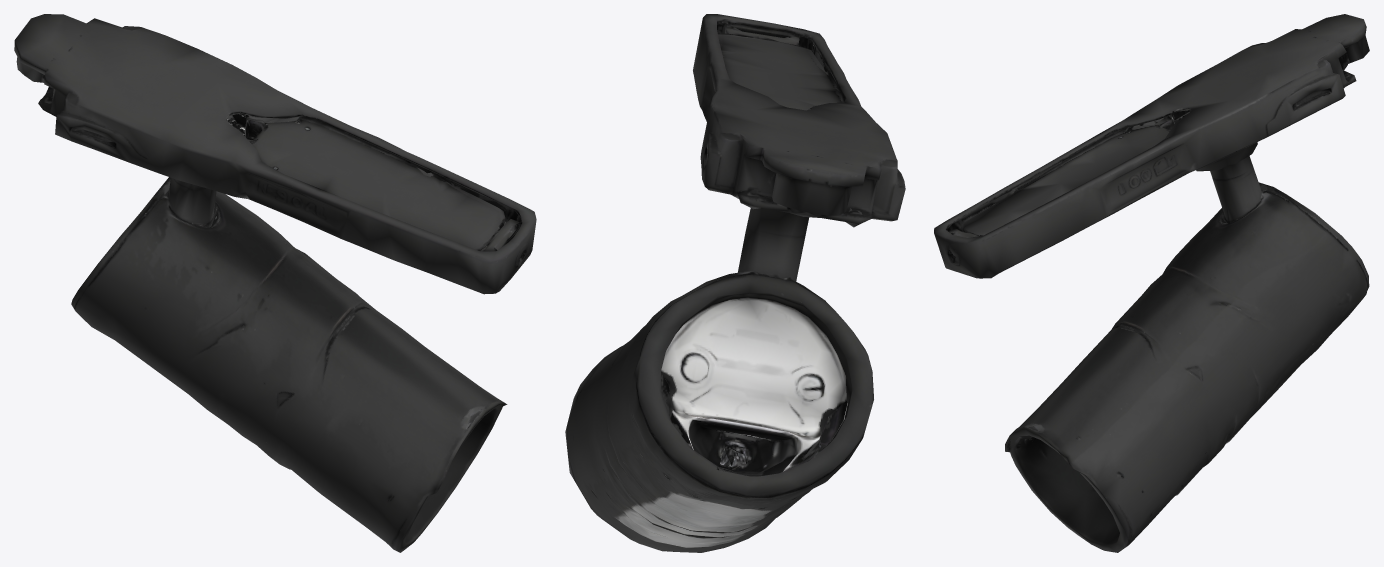
File: luminaria7.obj
The picture shows the model from 3 angles, left to right: view 1: azimuth 30°, elevation 25°; view 2: azimuth 150°, elevation 25°; view 3: azimuth 270°, elevation 25°; orthographic projection. The views are drawn at different scales.
Parts seen in each view (by area): view 1: luminaria7; view 2: luminaria7; view 3: luminaria7.
Part boxes in pixels (bbox=[...]): luminaria7: bbox=[14, 14, 536, 552]; luminaria7: bbox=[565, 14, 905, 552]; luminaria7: bbox=[934, 14, 1369, 552].
Size of the model in its own units: 1.56 by 1.98 by 1.84.
Materials: 1 (1 with a texture image).
